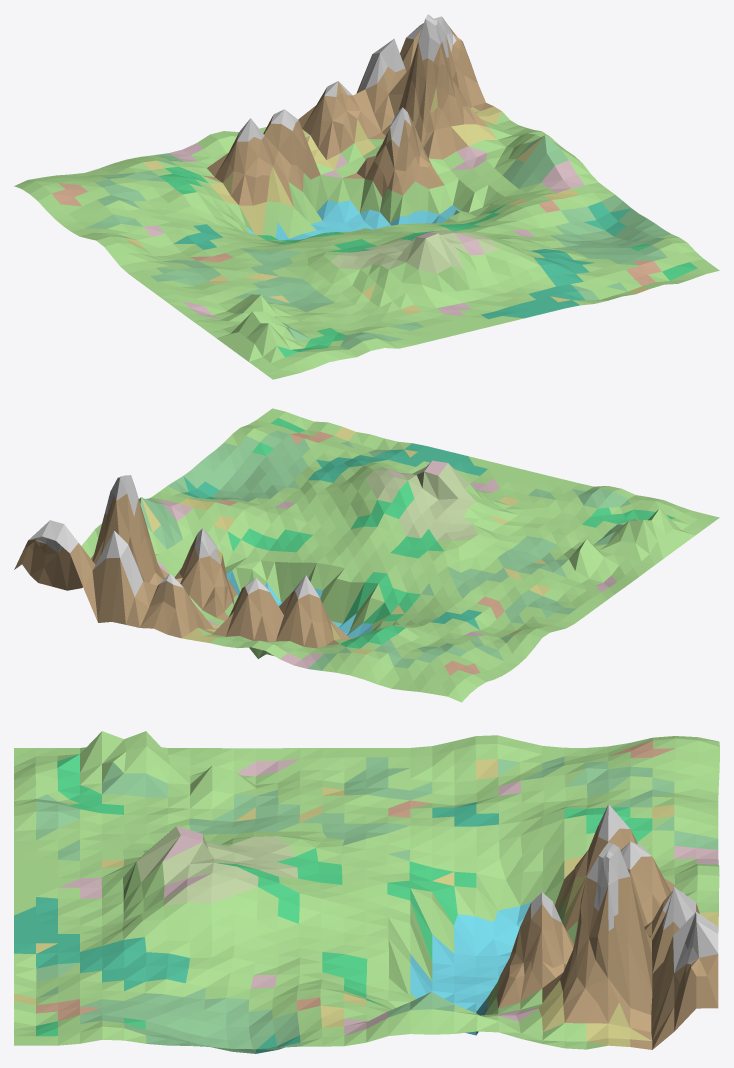
File: animale_terrain_01.fbx
3 views of the same model, one above another, from view 1: azimuth 30°, elevation 25°; view 2: azimuth 150°, elevation 25°; view 3: azimuth 270°, elevation 25° (orthographic). The views are drawn at different scales.
Parts seen in each view (by area): view 1: Plane; view 2: Plane; view 3: Plane.
Boxes of the visible parts, bbox=[...] form: Plane: bbox=[14, 14, 719, 379]; Plane: bbox=[14, 408, 719, 702]; Plane: bbox=[14, 731, 719, 1053].
Bounding box in the file's own units: 401 × 142 × 401.
